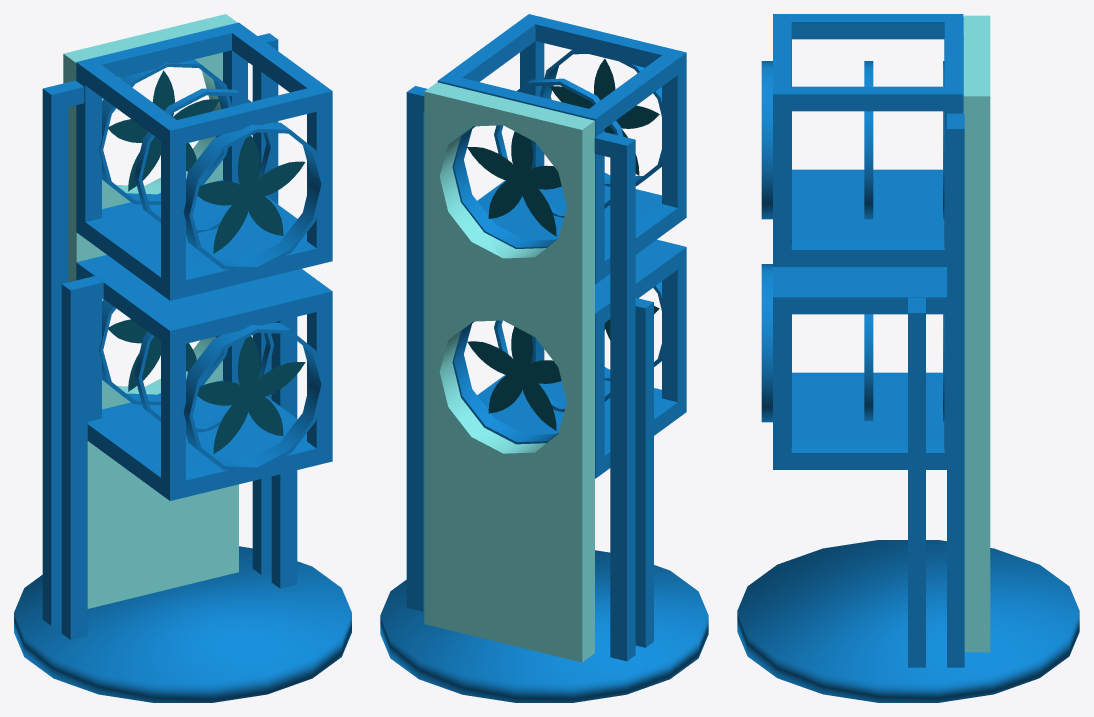
Rendered from 2026-1-9-CarbonCapture-v028.fbx.
3 renders of one model, left to right at view 1: azimuth 30°, elevation 25°; view 2: azimuth 150°, elevation 25°; view 3: azimuth 270°, elevation 25°, orthographic. The views are drawn at different scales.
Parts seen in each view (by area): view 1: Cube.008; view 2: Cube.008; view 3: Cube.008.
Part boxes in pixels (<box>): Cube.008: <box>14,14,351,702</box>; Cube.008: <box>380,14,708,702</box>; Cube.008: <box>737,14,1079,702</box>.
Size of the model in its own units: 355 by 670 by 360.
